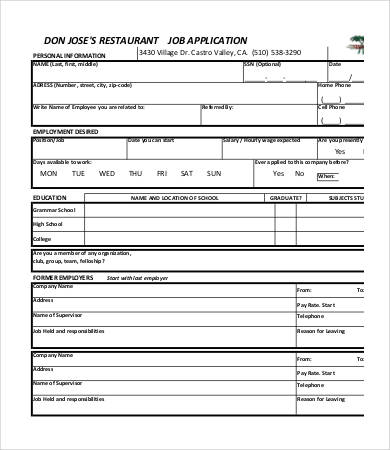table: (32, 61, 365, 126), (32, 283, 363, 348), (32, 352, 362, 416), (31, 139, 364, 187), (31, 205, 364, 247), (32, 251, 364, 273)
